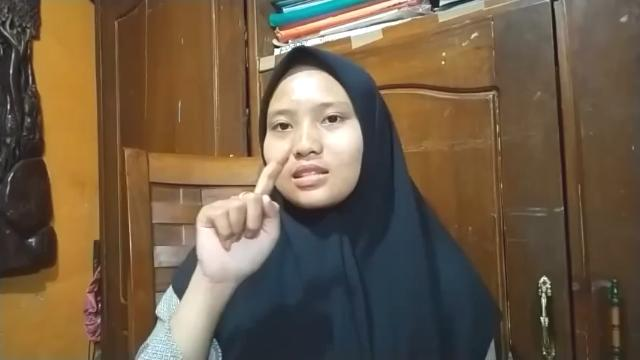Z: (192, 141, 296, 279)
